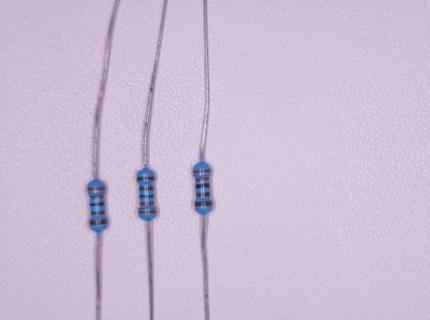Black band: (195, 183, 210, 189), (90, 203, 105, 207), (140, 195, 154, 198)
Brown band: (194, 201, 213, 207), (90, 219, 107, 225), (137, 176, 155, 181), (139, 186, 154, 191), (196, 192, 210, 197), (91, 211, 105, 215)
Orange band: (138, 210, 157, 214), (87, 187, 106, 191), (193, 169, 211, 173), (140, 201, 154, 206), (195, 177, 209, 182), (89, 195, 104, 199)
